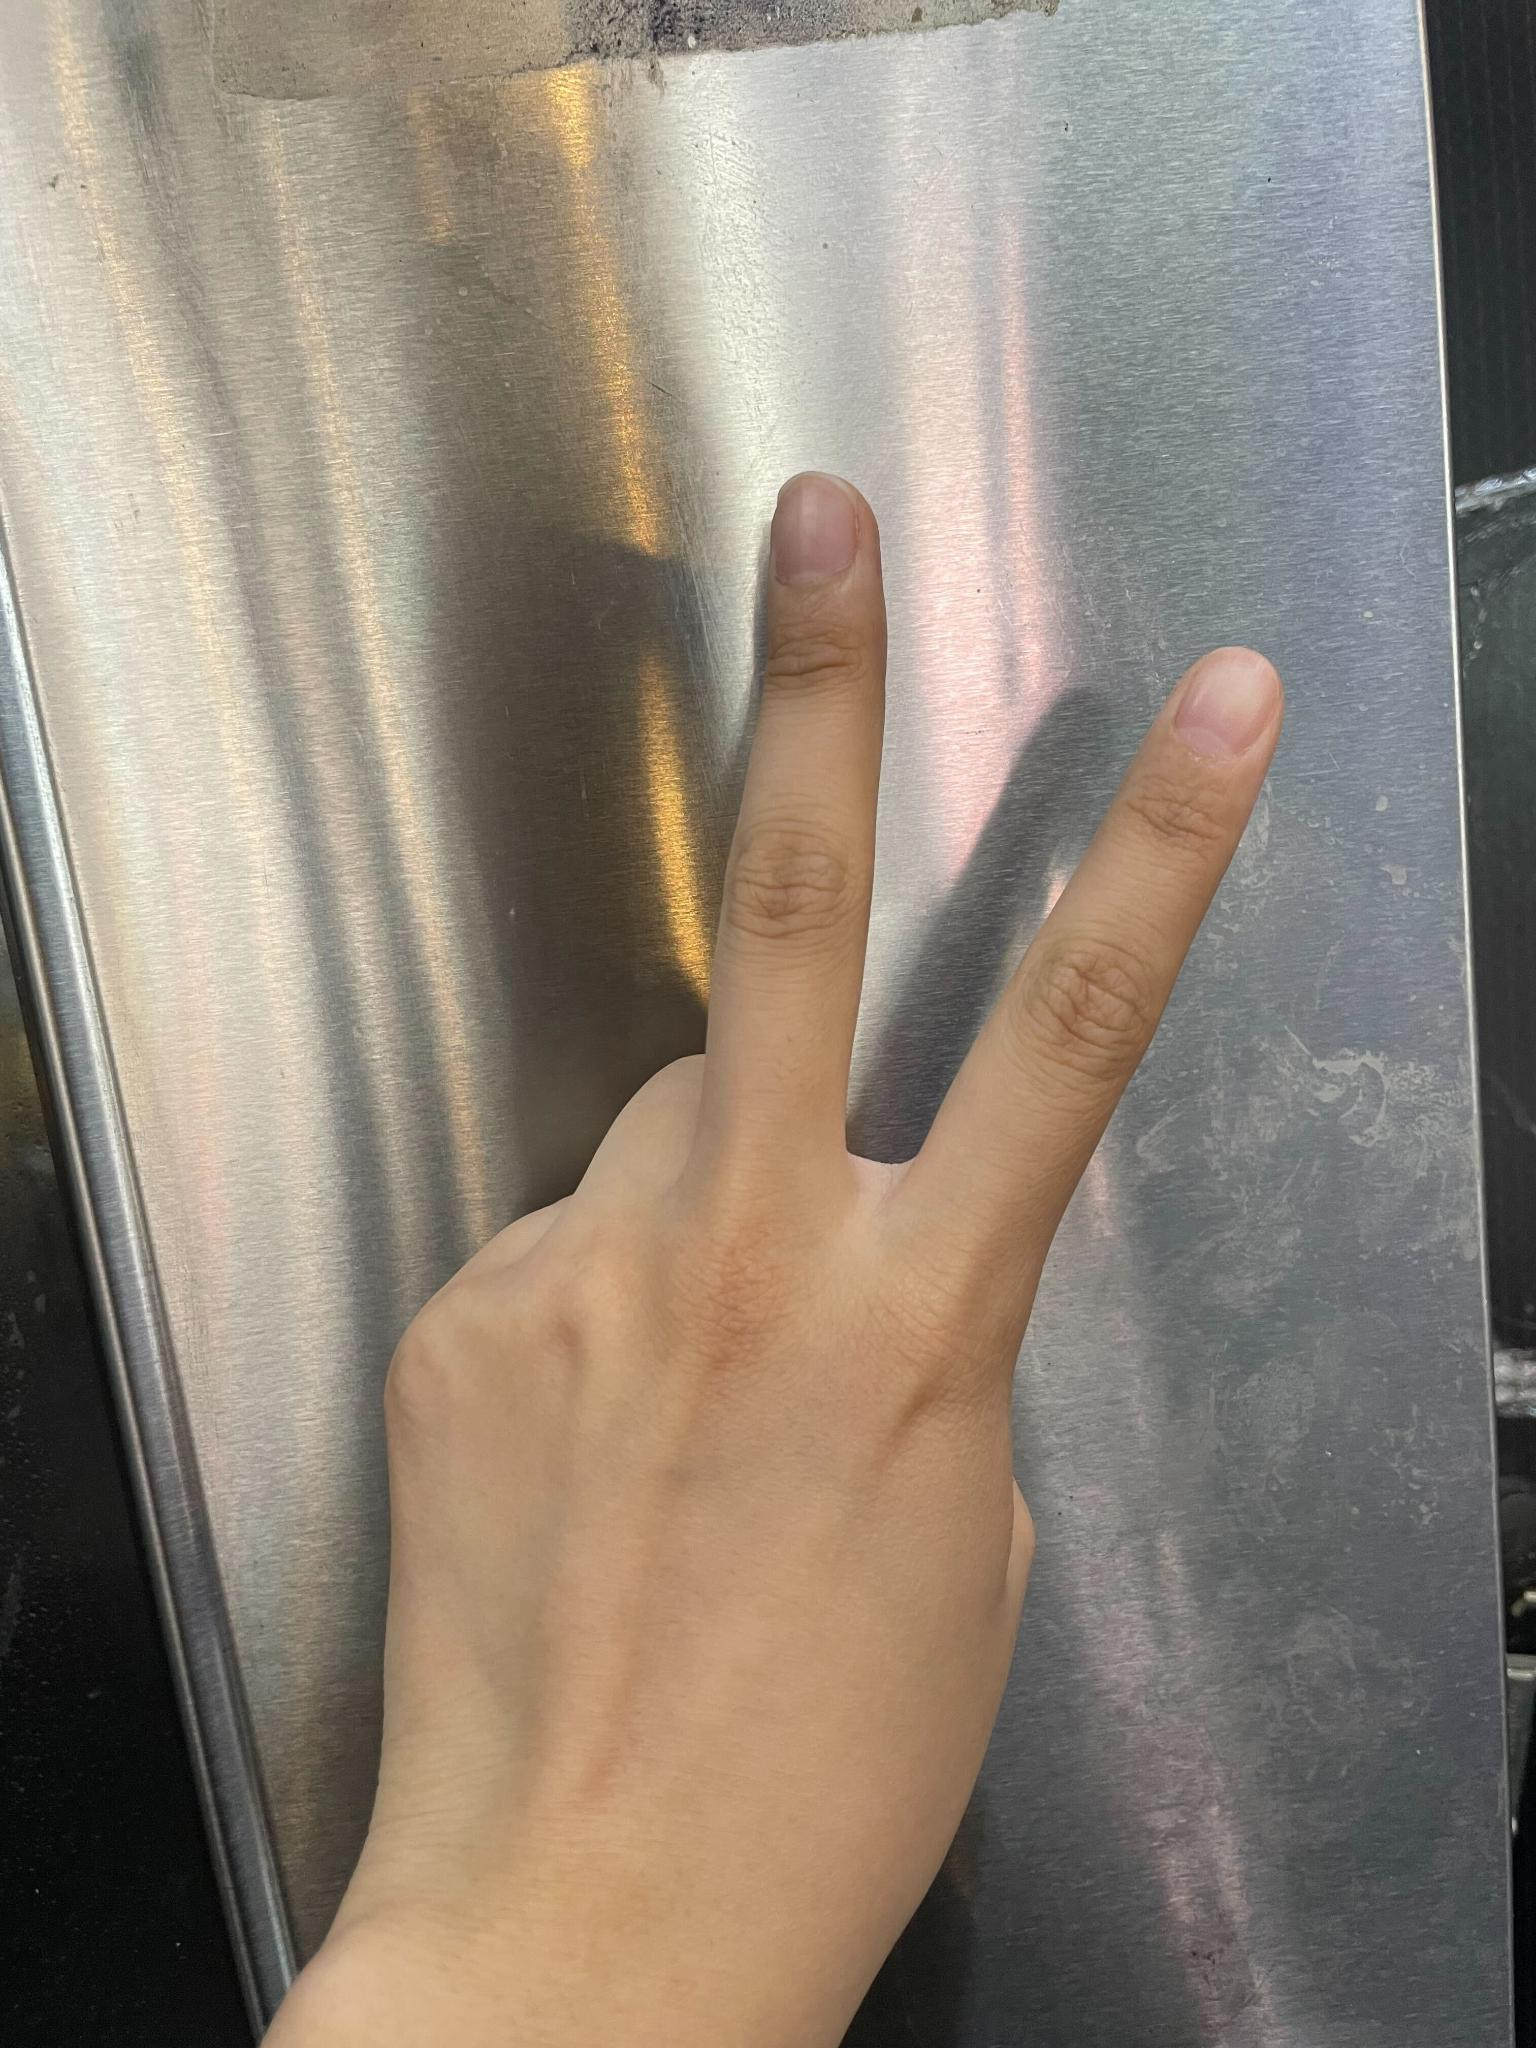v: (343, 447, 1291, 2048)
